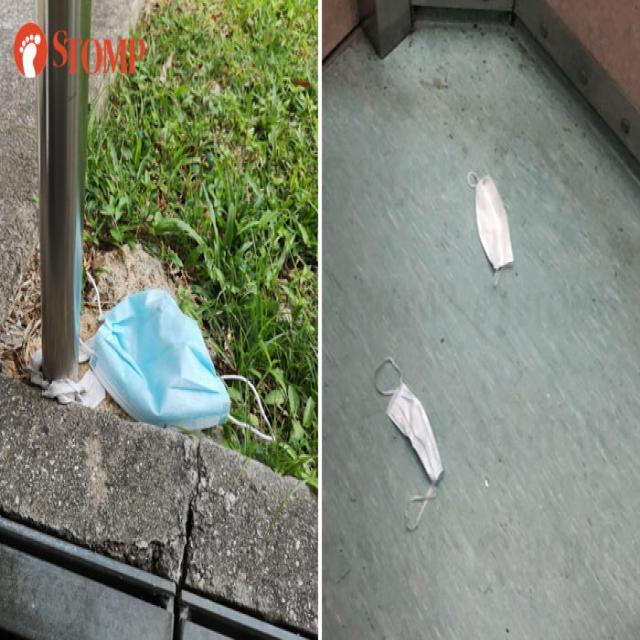face mask: (82, 252, 276, 458), (374, 352, 442, 530), (466, 162, 518, 304)
